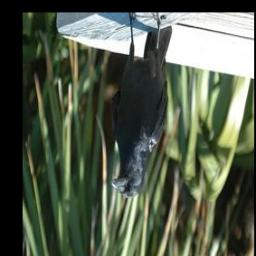Crow: (111, 13, 172, 199)
